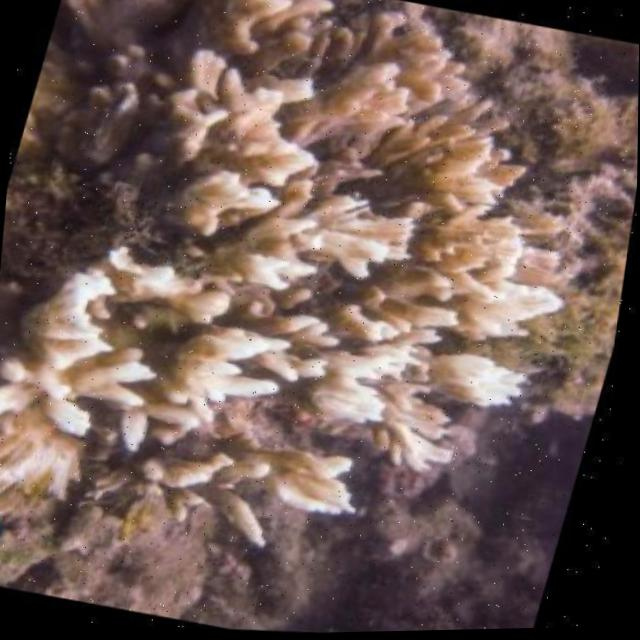Bleached Coral: (0, 0, 623, 571)
